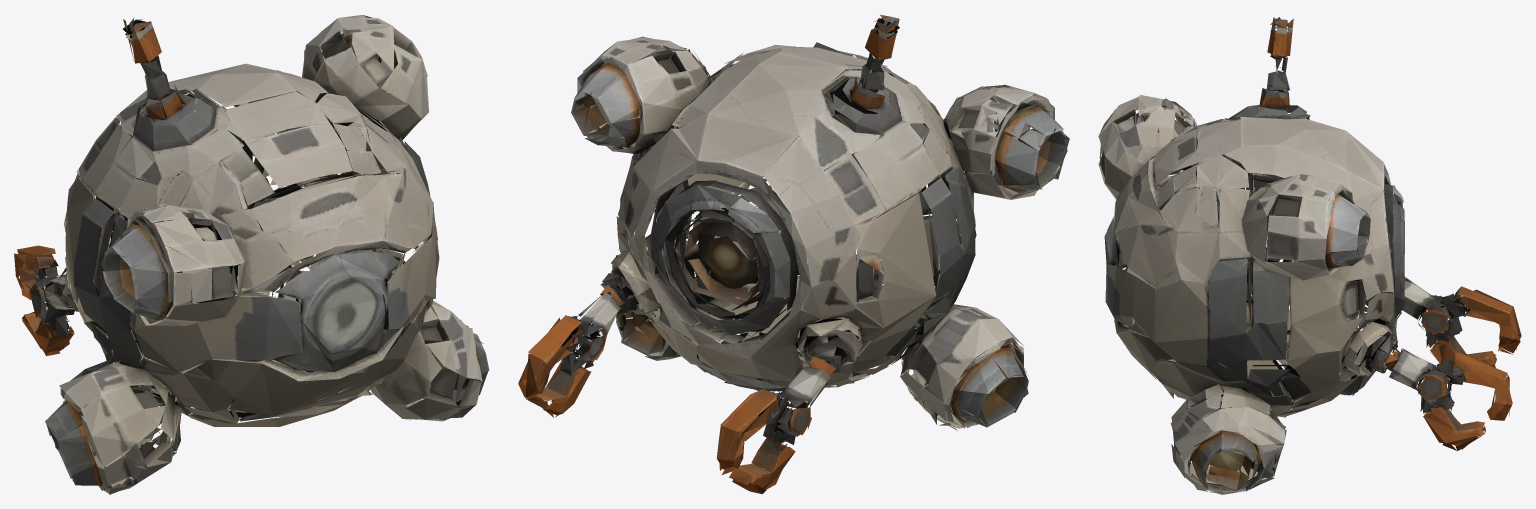
Rendered from drone-maintenance.glb.
3 renders of one model, left to right at view 1: azimuth 30°, elevation 25°; view 2: azimuth 150°, elevation 25°; view 3: azimuth 270°, elevation 25°, orthographic. The views are drawn at different scales.
Parts seen in each view (by area): view 1: drone-maintenance; view 2: drone-maintenance; view 3: drone-maintenance.
Part boxes in pixels (box(x1,y1,x2,y2)): drone-maintenance: box(14, 15, 489, 494); drone-maintenance: box(518, 14, 1069, 493); drone-maintenance: box(1098, 17, 1521, 494).
Bounding box in the file's own units: 0.7661 × 0.7671 × 0.8.
Materials: 1 (1 with a texture image).
